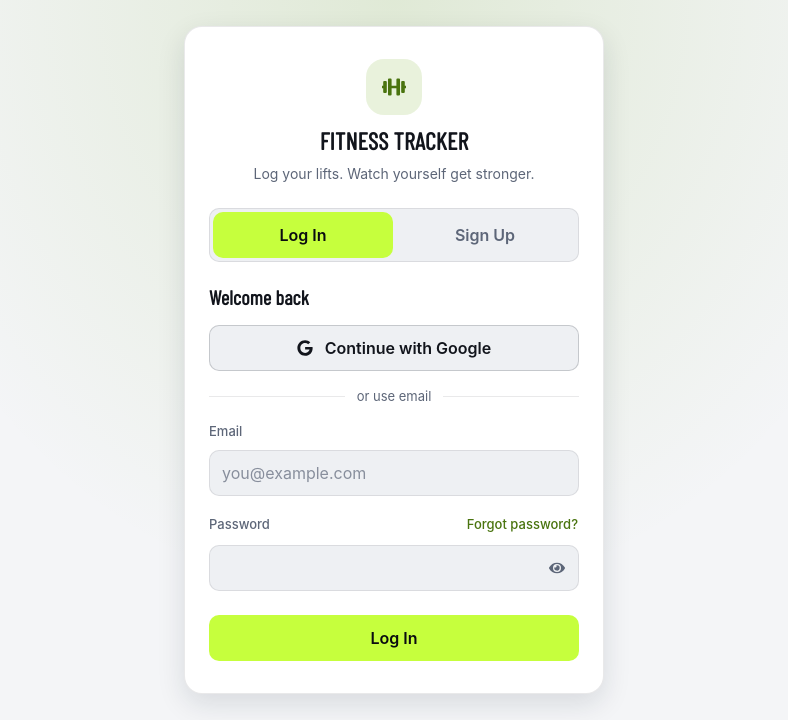
Test: signing up › shows the sign-up form with the password rule
The image size is (788, 720).
Click the tab "Sign Up" at (485, 234), box [395,212,575,258]
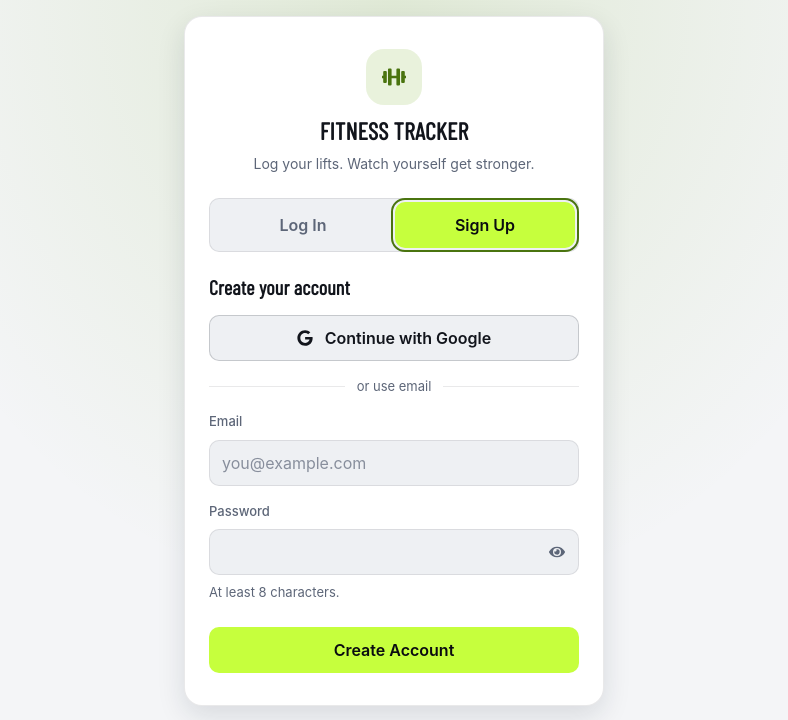
Check: the heading "Create your account" is shown, box [209,275,350,299]
Check: the text "At least 8 characters." is shown, box [209,584,340,600]
Check: the button "Create Account" is shown, box [209,627,579,673]
